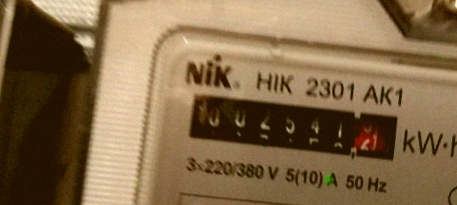0: (203, 101, 224, 129), (231, 102, 248, 130)
1: (331, 112, 347, 140)
2: (255, 105, 274, 131)
4: (307, 110, 323, 134)
5: (280, 107, 301, 137)
6: (356, 132, 373, 152)
screen: (174, 76, 414, 175)
